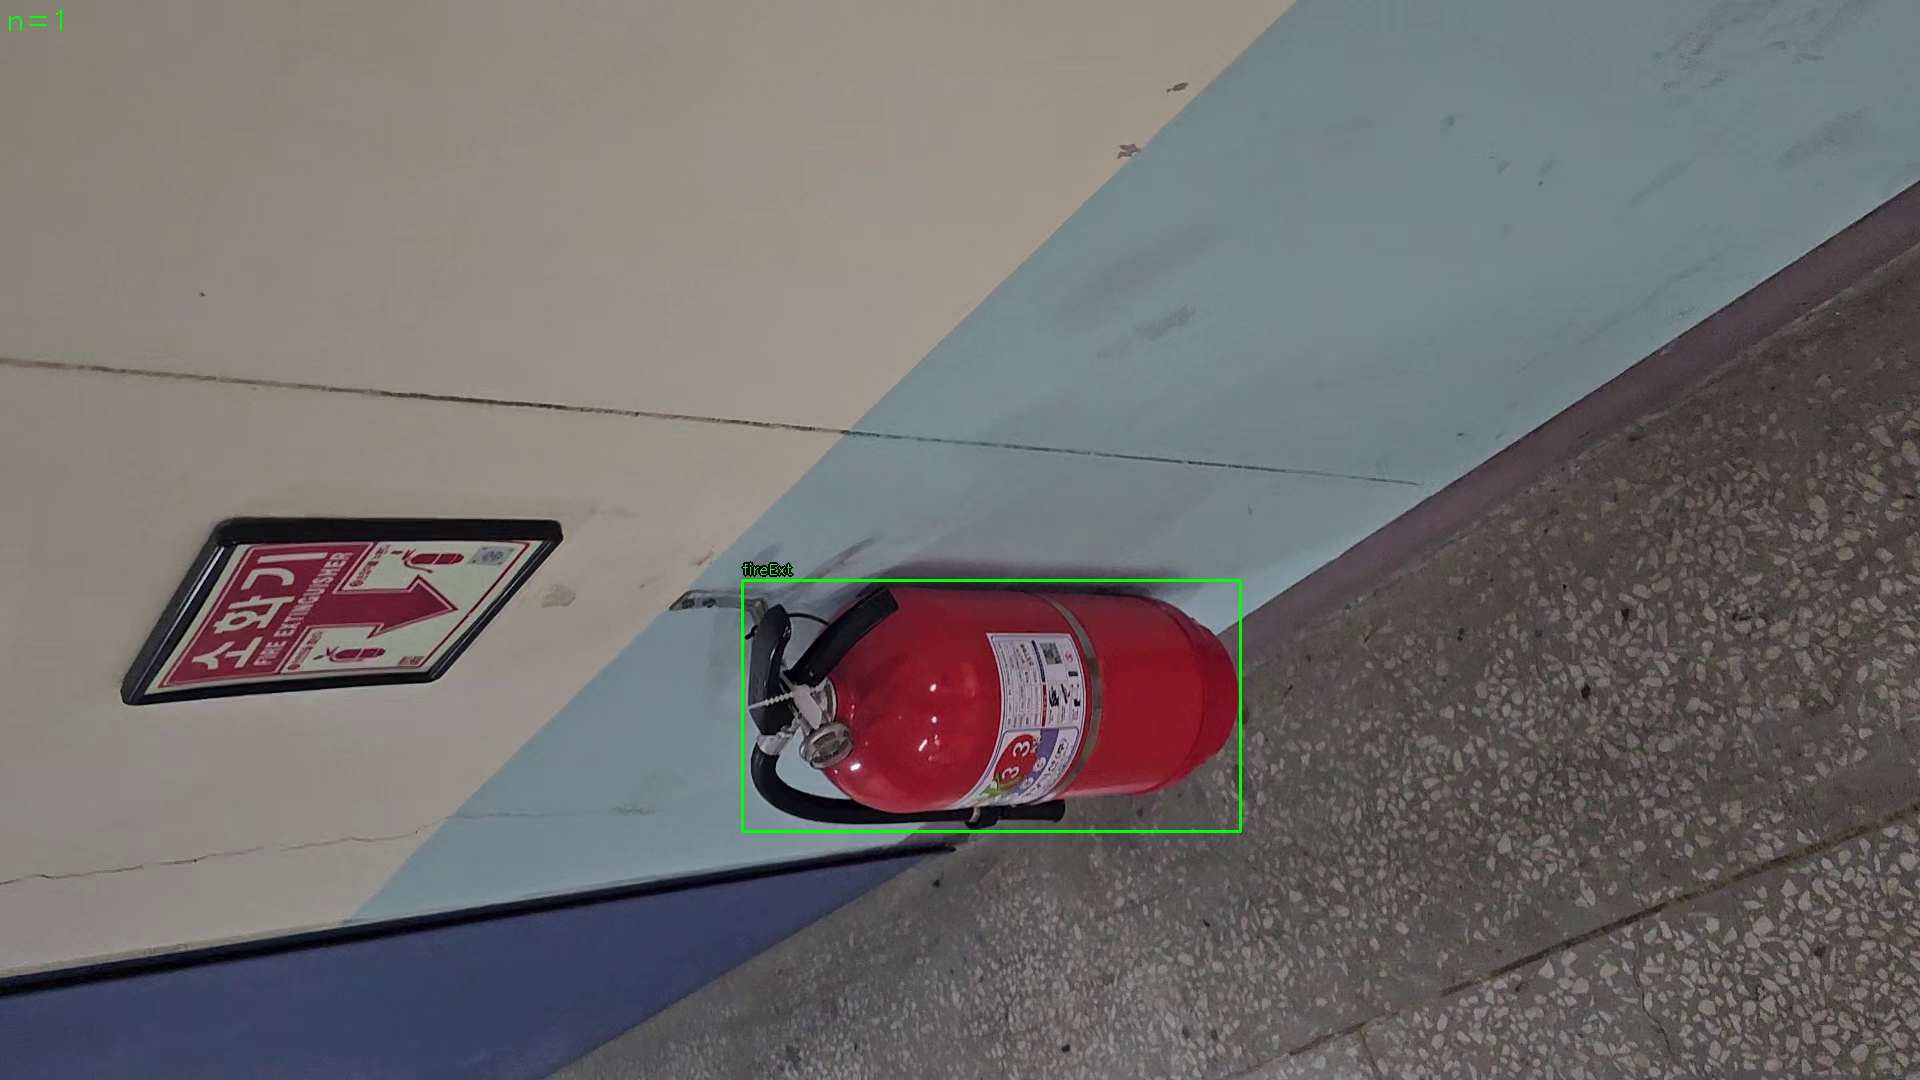lane: (742, 580, 1241, 832)
